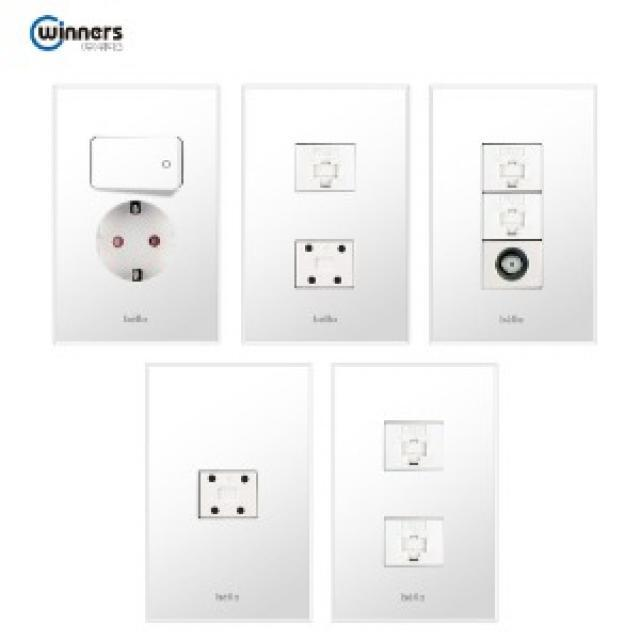typeb: (48, 74, 234, 354)
